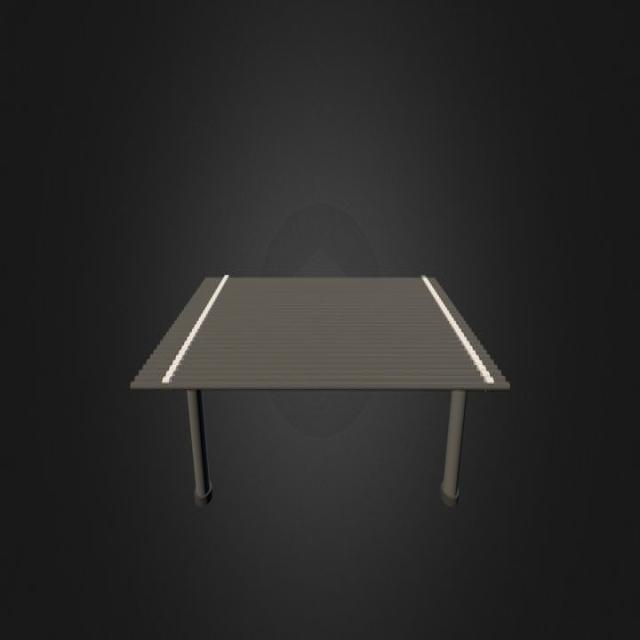table: (130, 268, 512, 500)
